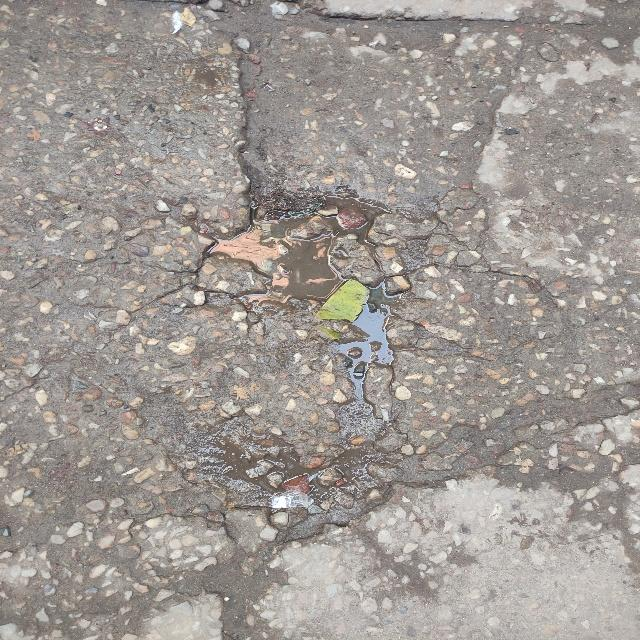Surface Erosion: (28, 24, 622, 572)
